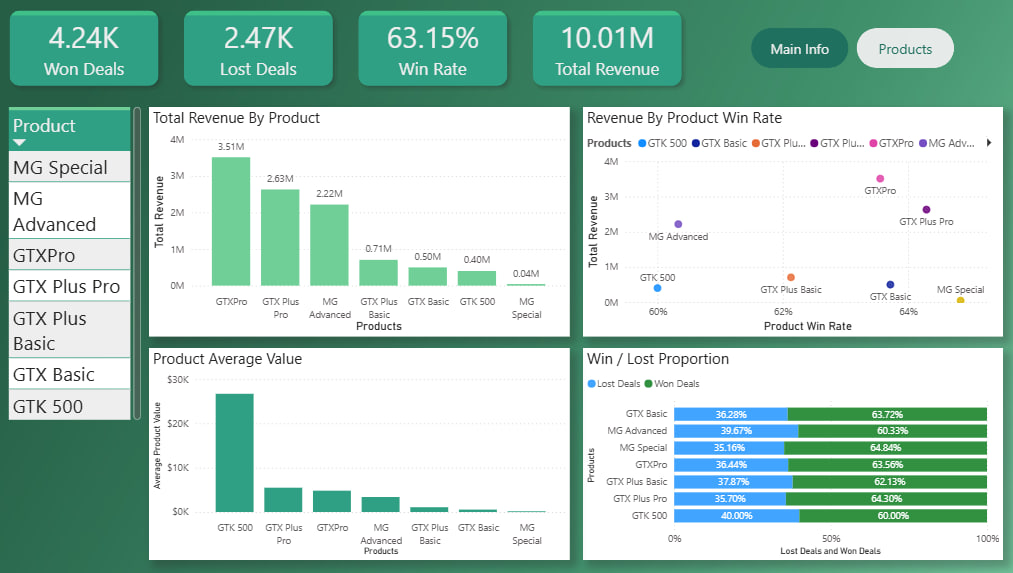

The dashboard page shown, as its layout file describes it:
{"tool":"powerbi","page":{"name":"Products","canvas":[1280,720],"ordinal":1},"visuals":[{"type":"tableEx","fields":{"Values":["sqllab_product_perfomance.product"]},"box":[15,137.3,166.2,395.8],"z":0},{"type":"columnChart","title":"Total Revenue By Product","fields":{"Category":["sqllab_product_perfomance.product"],"Y":["Sum(sqllab_product_perfomance.total_won_revenue)"]},"box":[191.5,137.3,526.2,287.3],"z":1000},{"type":"scatterChart","title":"Revenue By Product Win Rate","fields":{"Series":["sqllab_product_perfomance.product"],"X":["product_perf.Product Win Rate"],"Y":["Sum(product_perf.total_won_revenue)"]},"box":[733.8,137.3,525,287.3],"z":2000},{"type":"hundredPercentStackedBarChart","title":"Win / Lost Proportion","fields":{"Y":["Sum(product_perf.product_lost_deals)","Sum(product_perf.product_won_deals)"],"Category":["product_perf.product"]},"box":[733.8,438.8,525,265],"z":3000},{"type":"columnChart","title":"Product Average Value","fields":{"Category":["sqllab_product_perfomance.product"],"Y":["Sum(sqllab_product_perfomance.avg_product_value)"]},"box":[191.2,438.8,526.2,265],"z":4000},{"type":"pageNavigator","box":[943.8,38.8,255,50],"z":5000},{"type":"cardVisual","fields":{"Data":["Sum(product_perf.product_won_deals)","Sum(product_perf.product_lost_deals)","product_perf.Product Win Rate","Sum(product_perf.total_won_revenue)"]},"box":[0,0,875,128.8],"z":6000}]}

Visuals, with their boxes in screenshot pixels (x1, y1, x2, y2), scaled from the page's 1280x720 canvas onto the 1013x573 screenshot:
tableEx - sqllab_product_perfomance.product: l=12, t=109, r=143, b=424
"Total Revenue By Product" columnChart: l=152, t=109, r=568, b=338
"Revenue By Product Win Rate" scatterChart: l=581, t=109, r=996, b=338
"Win / Lost Proportion" hundredPercentStackedBarChart: l=581, t=349, r=996, b=560
"Product Average Value" columnChart: l=151, t=349, r=568, b=560
pageNavigator: l=747, t=31, r=949, b=71
cardVisual - Sum(product_perf.product_won_deals) x Sum(product_perf.product_lost_deals): l=0, t=0, r=692, b=103
